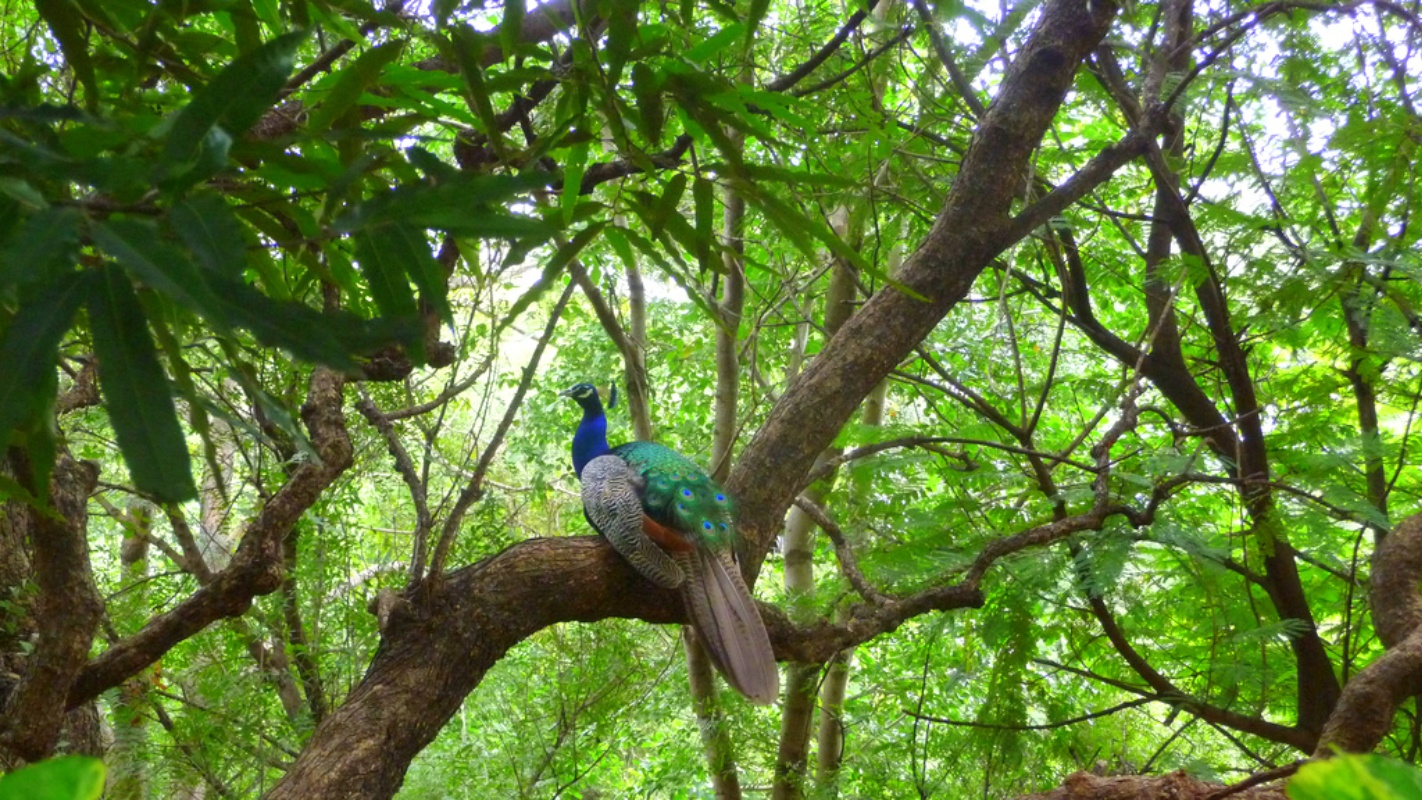pavoreal: (552, 376, 738, 582)
